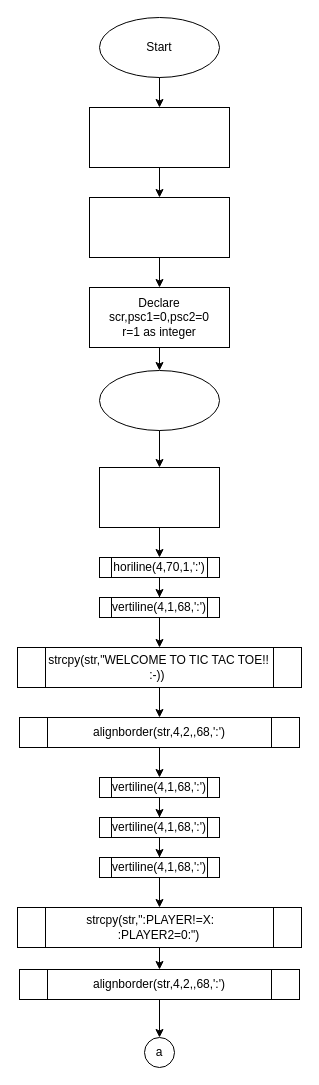
Image size: 319x1085. Some labels were removed from this diagram. The shapes that lost their labels are listed below. From the top down, each one's centre as x and y in pixels, then its label:
At (159,137): "Declare board and position as 3*3 character and integer array respectively".
At (159,227): "Declare PLAYER1 and PLAYER2 as const char data type and winner as char".
At (159,400): "int tictactoe()".
At (159,497): "Declare response as integer".
